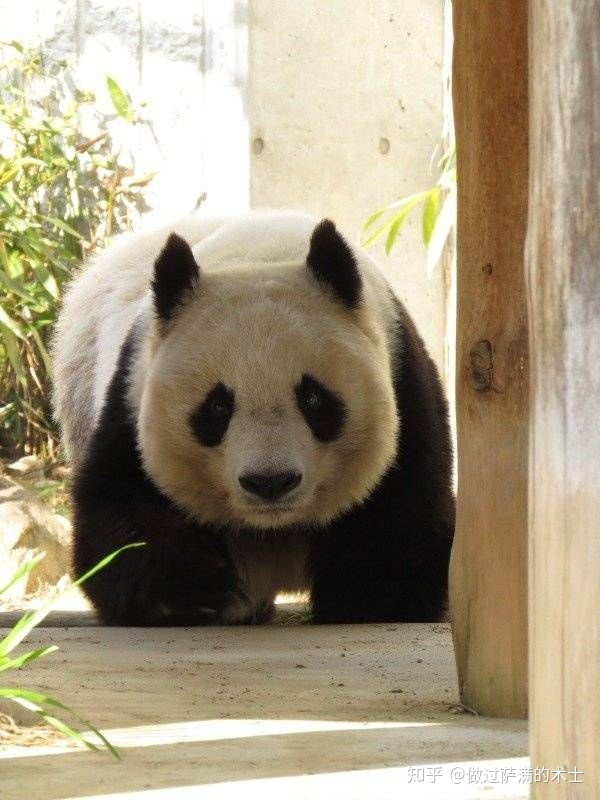panda: (47, 201, 472, 643)
